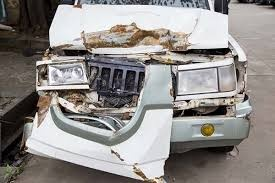Broken-glass: (33, 45, 248, 152), (43, 57, 87, 91)
Scratch: (69, 21, 195, 52)
